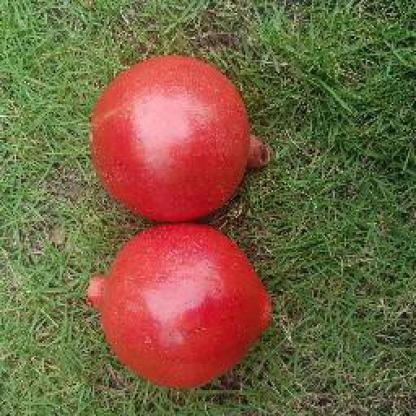pomegranate: (86, 222, 275, 388), (91, 53, 267, 222)
